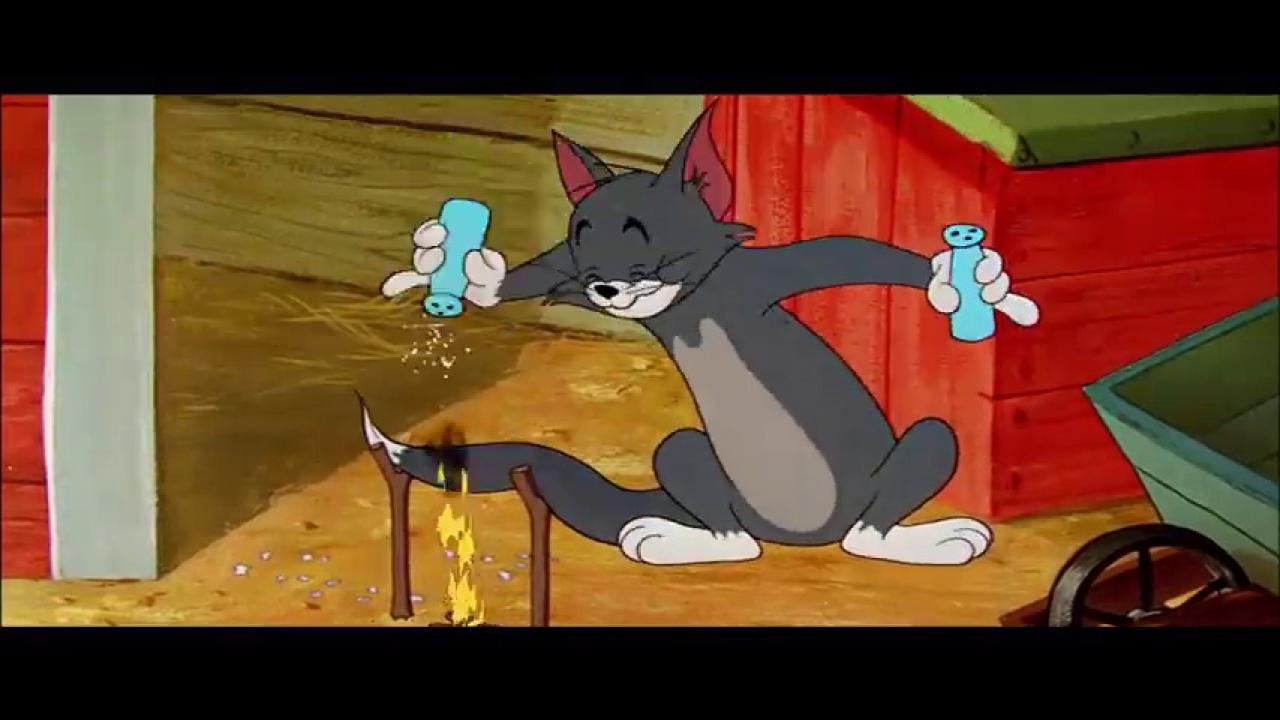Tom: (354, 97, 1047, 567)
